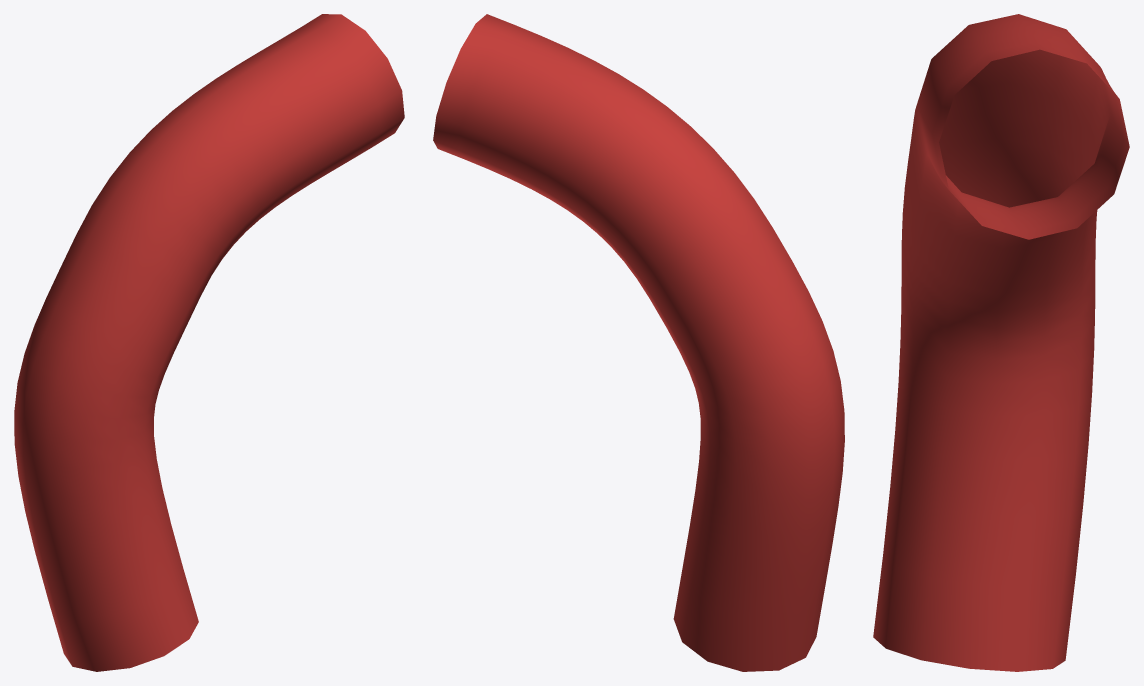
3 renders of one model, left to right at view 1: azimuth 30°, elevation 25°; view 2: azimuth 150°, elevation 25°; view 3: azimuth 270°, elevation 25°, orthographic. The views are drawn at different scales.
Visible parts, largest first — view 1: 左侧最上肋间动脉; view 2: 左侧最上肋间动脉; view 3: 左侧最上肋间动脉.
Part boxes in pixels (bbox=[...]): 左侧最上肋间动脉: bbox=[14, 14, 404, 671]; 左侧最上肋间动脉: bbox=[433, 14, 844, 671]; 左侧最上肋间动脉: bbox=[873, 14, 1129, 671].
Bounding box in the file's own units: 0.0089 × 0.0131 × 0.0039.
